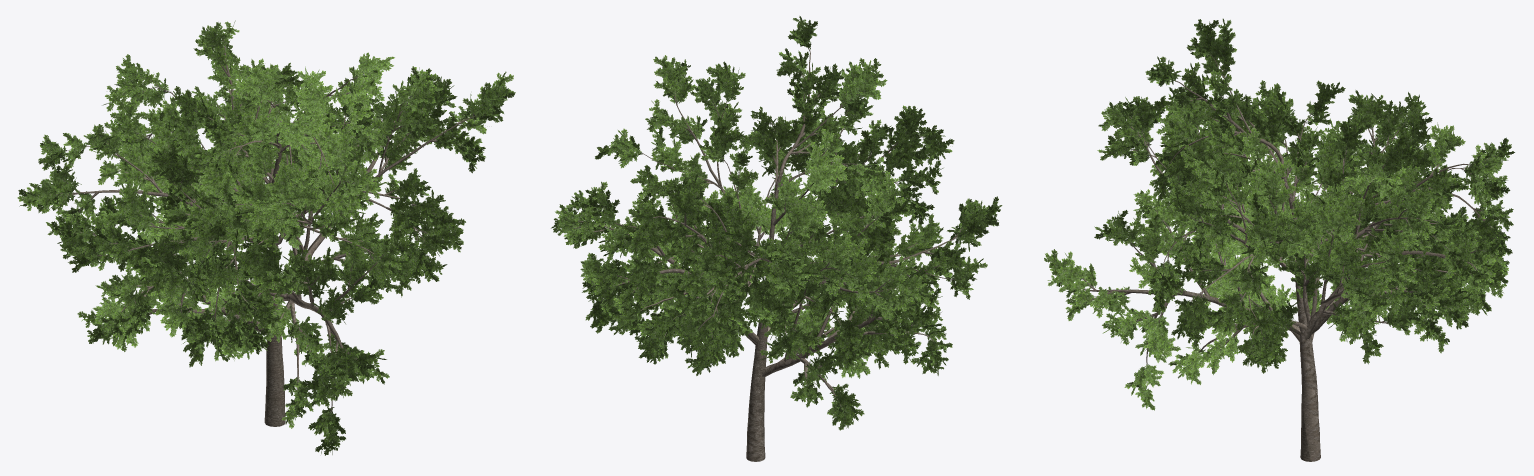
File: park-oak-a.gltf
3 views of the same model, side by side, from view 1: azimuth 30°, elevation 25°; view 2: azimuth 150°, elevation 25°; view 3: azimuth 270°, elevation 25° (orthographic). The views are drawn at different scales.
Visible parts, largest first — view 1: park-oak-a; view 2: park-oak-a; view 3: park-oak-a.
Part boxes in pixels (x1,y1,x2,y2): park-oak-a: [17, 20, 515, 455]; park-oak-a: [551, 16, 1002, 461]; park-oak-a: [1044, 18, 1514, 461].
Size of the model in its own units: 1.08 by 1 by 1.06.
2 materials, 2 textured.
